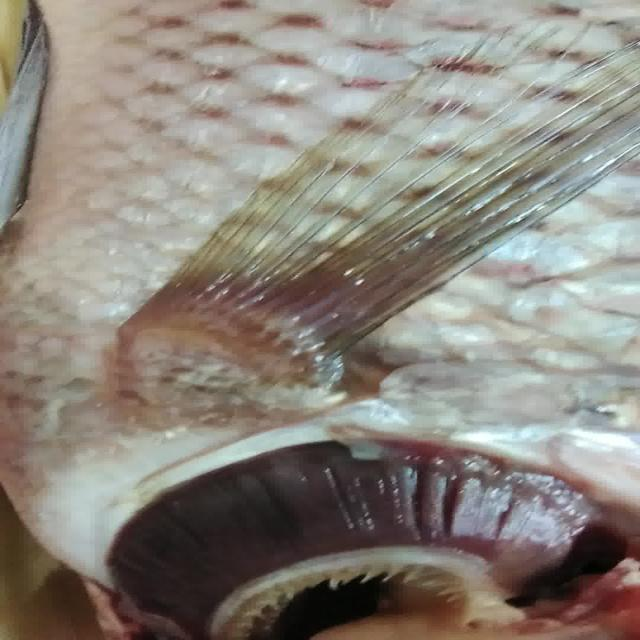Non-Fresh: (109, 432, 618, 624)
